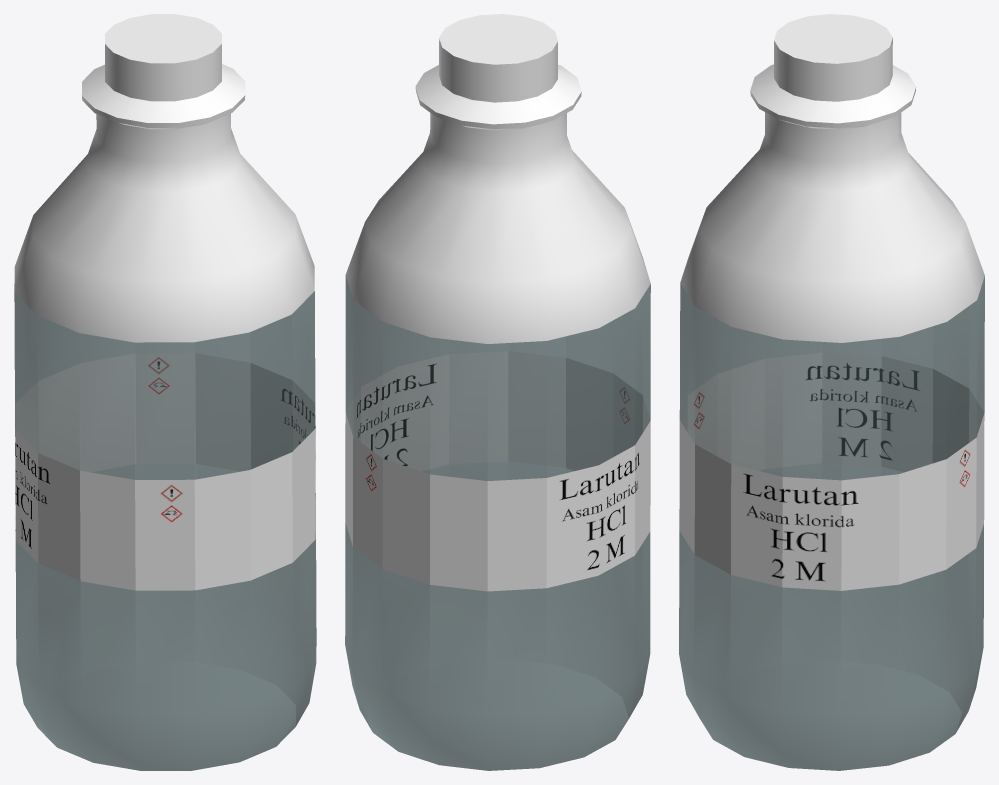
Rendered from botol bahan HCl 2M new.fbx.
3 views of the same model, side by side, from view 1: azimuth 30°, elevation 25°; view 2: azimuth 150°, elevation 25°; view 3: azimuth 270°, elevation 25° (orthographic).
Visible parts, largest first — view 1: polySurface1626; view 2: polySurface1626; view 3: polySurface1626.
Part boxes in pixels (bbox=[...]): polySurface1626: bbox=[14, 14, 316, 770]; polySurface1626: bbox=[345, 14, 650, 770]; polySurface1626: bbox=[679, 14, 984, 770].
Bounding box in the file's own units: 1.06 × 2.59 × 1.06.
Materials: 3 (1 with a texture image).
